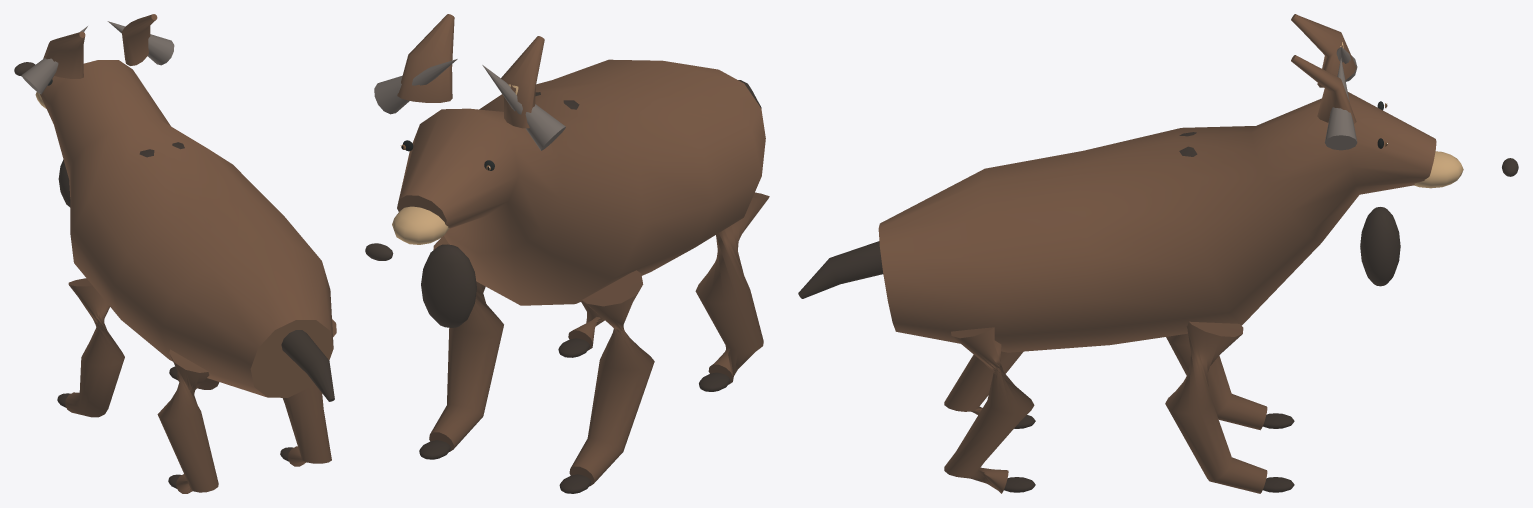
File: bison_hero.glb
3 views of the same model, side by side, from view 1: azimuth 30°, elevation 25°; view 2: azimuth 150°, elevation 25°; view 3: azimuth 270°, elevation 25° (orthographic). The views are drawn at different scales.
Visible parts, largest first — view 1: BisonOrganicBody, Leg_LH, Leg_LF, Leg_RH, Tail, Ear, Ear2, HornDetail_L, HornDetail_R, BeardRuff; view 2: BisonOrganicBody, Leg_LF, Leg_RF, Leg_LH, BeardRuff, Ear2, Ear, Muzzle, HornDetail_L, HornDetail_R, Leg_RH, Hoof_RH (+3 smaller); view 3: BisonOrganicBody, Leg_RF, Leg_RH, Leg_LF, BeardRuff, Tail, Leg_LH, Ear, Ear2, HornDetail_R, Muzzle.
Part boxes in pixels (left/top/right/bottom): BisonOrganicBody: left=40, top=60, right=333, bottom=397; Leg_LH: left=157, top=349, right=218, bottom=493; Leg_LF: left=65, top=278, right=124, bottom=417; Leg_RH: left=282, top=319, right=336, bottom=466; Tail: left=281, top=330, right=334, bottom=401; Ear: left=43, top=31, right=85, bottom=78; Ear2: left=121, top=14, right=157, bottom=65; HornDetail_L: left=21, top=26, right=87, bottom=94; HornDetail_R: left=107, top=21, right=174, bottom=65; BeardRuff: left=58, top=159, right=70, bottom=207; BisonOrganicBody: left=397, top=59, right=765, bottom=305; Leg_LF: left=569, top=270, right=654, bottom=486; Leg_RF: left=429, top=236, right=503, bottom=451; Leg_LH: left=695, top=192, right=769, bottom=384; BeardRuff: left=421, top=244, right=476, bottom=327; Ear2: left=397, top=14, right=454, bottom=102; Ear: left=501, top=36, right=544, bottom=128; Muzzle: left=392, top=206, right=449, bottom=244; HornDetail_L: left=482, top=65, right=565, bottom=150; HornDetail_R: left=374, top=59, right=457, bottom=114; Leg_RH: left=568, top=301, right=604, bottom=350; Hoof_RH: left=558, top=338, right=589, bottom=357; BisonOrganicBody: left=878, top=92, right=1436, bottom=352; Leg_RF: left=1165, top=321, right=1267, bottom=493; Leg_RH: left=944, top=327, right=1034, bottom=493; Leg_LF: left=1166, top=333, right=1267, bottom=430; BeardRuff: left=1360, top=207, right=1400, bottom=286; Tail: left=798, top=241, right=883, bottom=298; Leg_LH: left=944, top=351, right=1023, bottom=414; Ear: left=1291, top=14, right=1356, bottom=87; Ear2: left=1291, top=55, right=1356, bottom=123; HornDetail_R: left=1324, top=58, right=1357, bottom=150; Muzzle: left=1414, top=151, right=1463, bottom=188.
Bounding box in the file's own units: 1.56 × 3.01 × 4.62.
